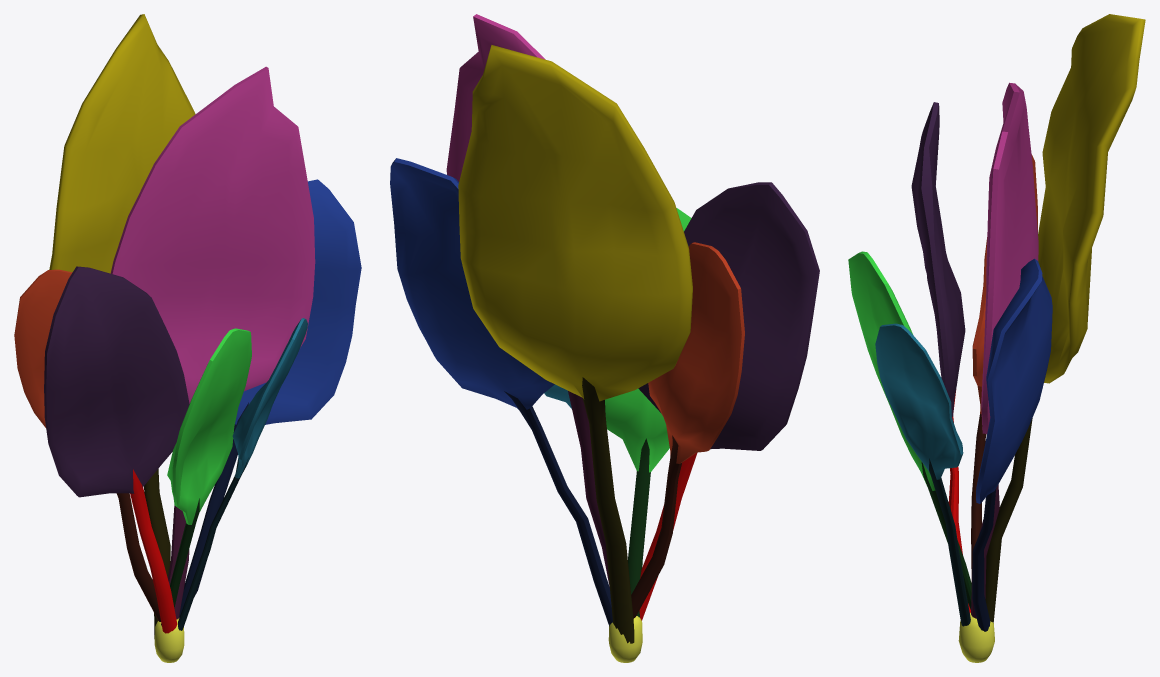
The model's file is Spinach.fbx.
3 renders of one model, left to right at view 1: azimuth 30°, elevation 25°; view 2: azimuth 150°, elevation 25°; view 3: azimuth 270°, elevation 25°, orthographic. The views are drawn at different scales.
Parts seen in each view (by area): view 1: Spinach; view 2: Spinach; view 3: Spinach.
Part boxes in pixels (x1,y1,x2,y2): Spinach: (14, 14, 361, 662); Spinach: (390, 14, 819, 662); Spinach: (848, 14, 1145, 662).
Bounding box in the file's own units: 27.9 × 18.23 × 45.21.
